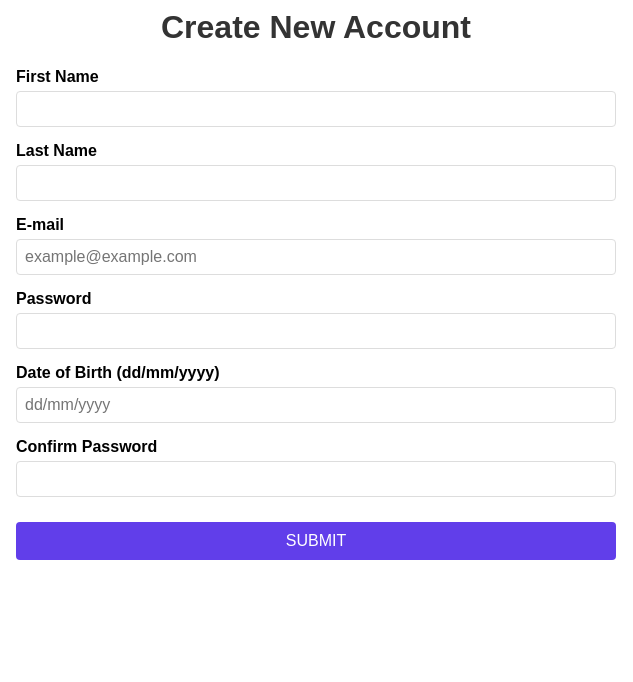
Scenario: Form validation tests › shows error when password is less than 8 characters (boundary)
In the password field labelled "Password": (316, 331) [16,313,616,349], type "pass123"
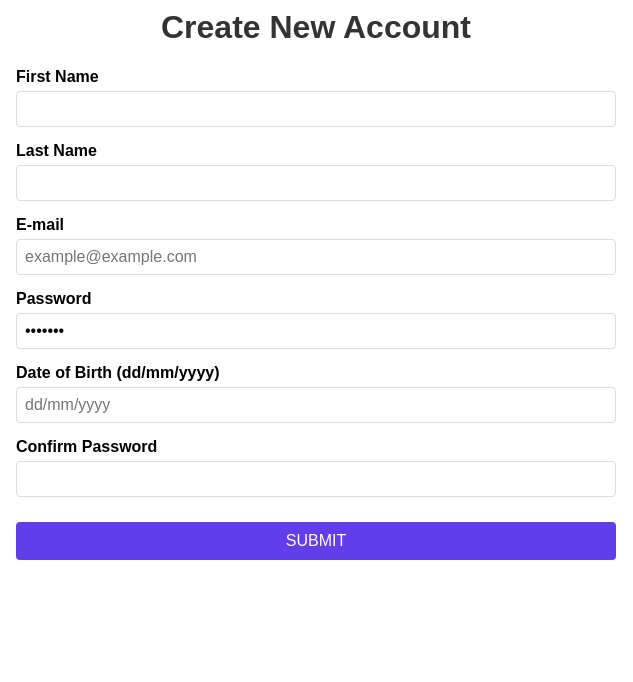
In the password field labelled "Confirm Password": (316, 479) [16,461,616,497], type "pass123"
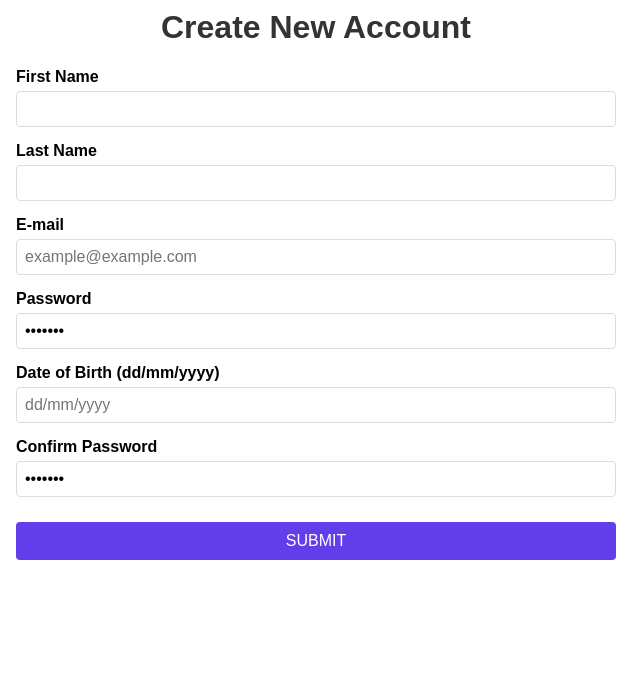
Click the button "SUBMIT": (316, 541) [16,522,616,560]
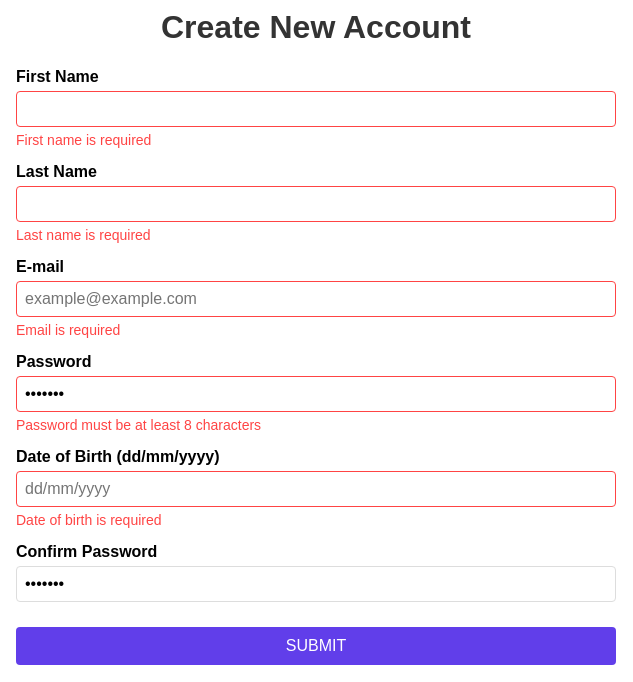
Expected: the text "Password must be at least 8 characters" is shown, [16,417,261,433]
